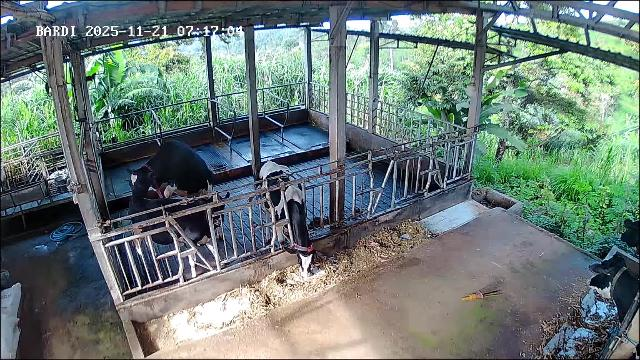mounting: (130, 141, 218, 210)
